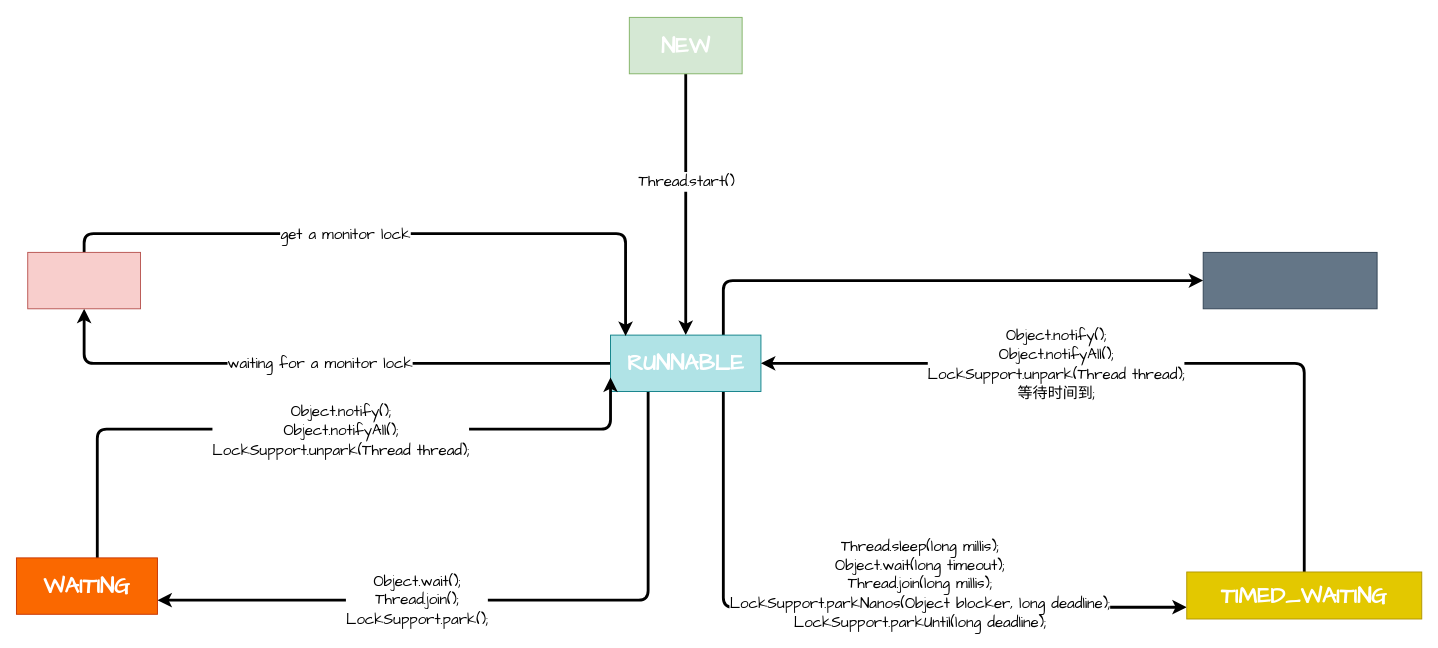
This 1438x648 diagram has some shape labels left out. Here are the shapes that lost their labels. From the top down, the centre of each, then its label:
the point at 84,280: BLOCKED
the point at 1289,280: TERMINATED
